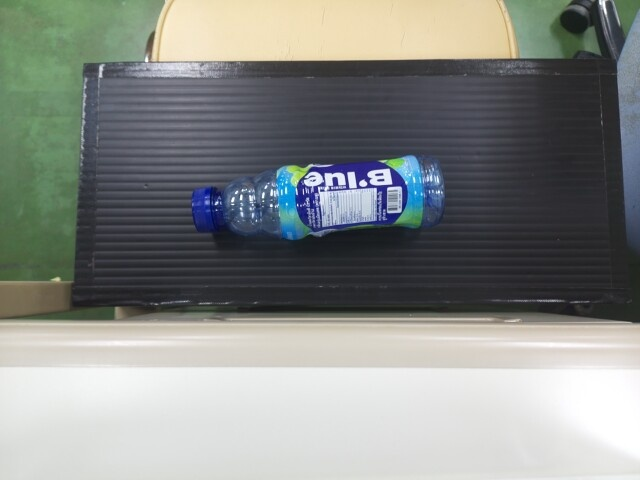plastic_bottle: (187, 164, 448, 230)
